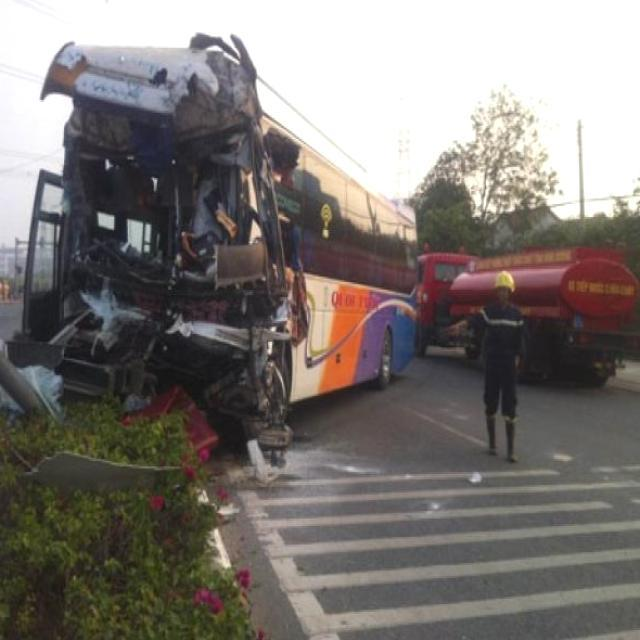accident: (11, 19, 342, 473)
